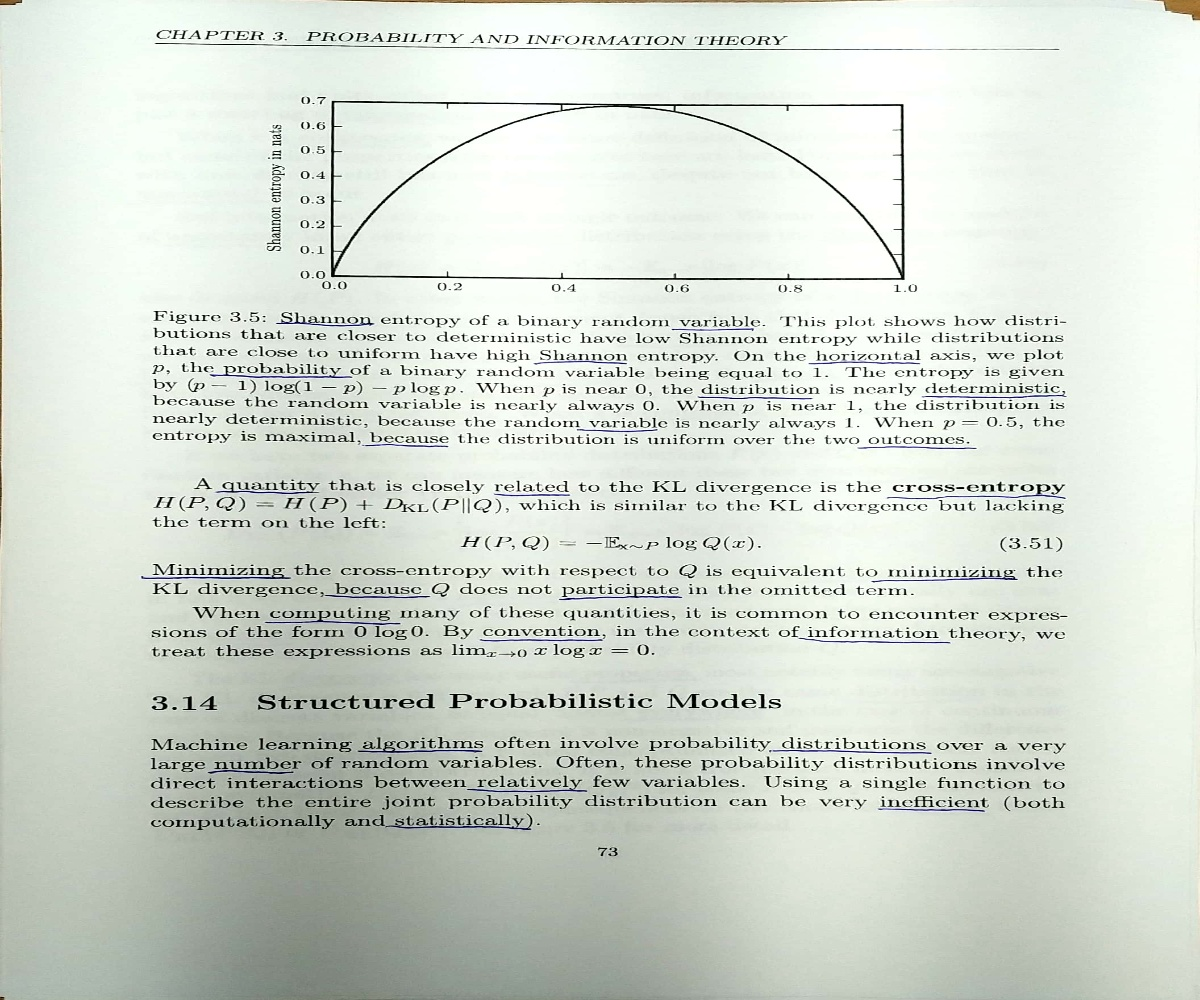underline: (791, 635, 950, 648), (140, 574, 293, 584), (383, 824, 535, 834), (856, 443, 979, 455), (771, 748, 935, 757), (556, 593, 683, 604), (209, 373, 358, 382), (870, 576, 1018, 585), (921, 392, 1068, 401), (878, 804, 986, 816), (886, 493, 1067, 500), (264, 618, 403, 627), (321, 592, 432, 603), (356, 748, 485, 757), (275, 319, 375, 330), (359, 441, 450, 453), (696, 393, 817, 402), (807, 359, 921, 368), (206, 768, 295, 779), (467, 786, 588, 794), (479, 636, 604, 643), (532, 358, 629, 367), (212, 489, 320, 497), (573, 426, 663, 435), (492, 489, 572, 497), (670, 326, 758, 332)
